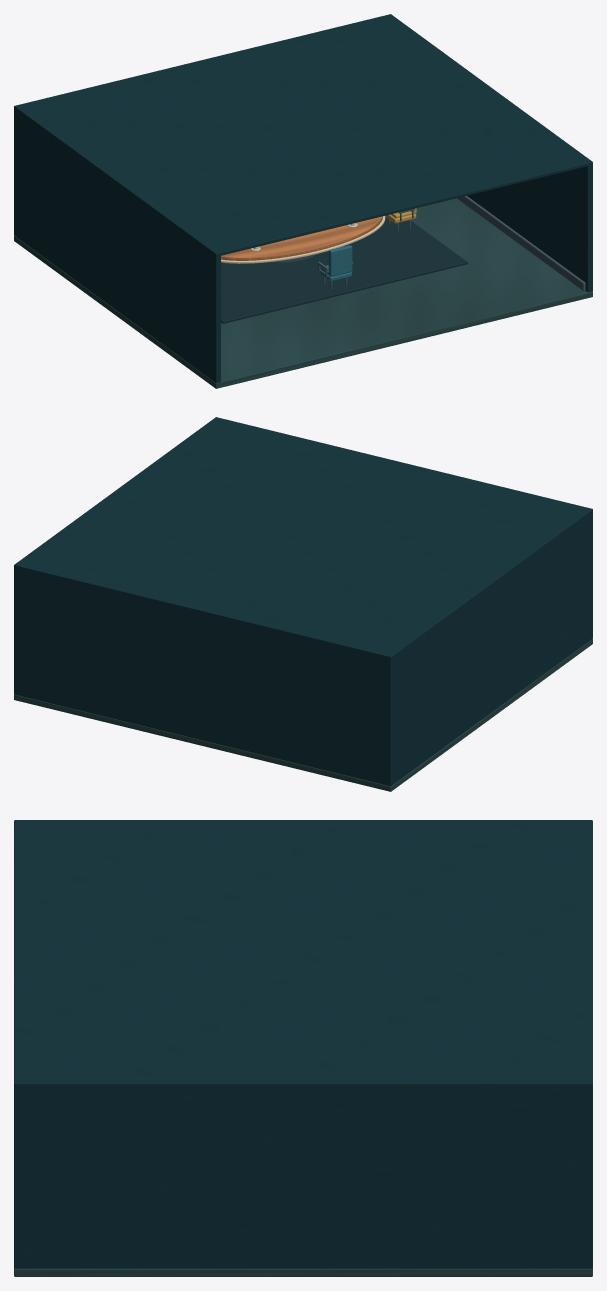
The picture shows the model from 3 angles, top to bottom: view 1: azimuth 30°, elevation 25°; view 2: azimuth 150°, elevation 25°; view 3: azimuth 270°, elevation 25°; orthographic projection. The views are drawn at different scales.
Parts seen in each view (by area): view 1: Meeting_Ceiling, Meeting_LeftWall, Meeting_Floor, Meeting_Rug, Meeting_RightWall, Meeting_TableTop, Meeting_RightBaseboard, Meeting_Chair_Front_Back, Meeting_TableEdge; view 2: Meeting_Ceiling, Meeting_BackWall, Meeting_LeftWall, Meeting_Floor, Meeting_RightWall; view 3: Meeting_Ceiling, Meeting_RightWall, Meeting_Floor, Meeting_BackWall, Meeting_LeftWall.
Boxes of the visible parts, left/top/right/bottom form: Meeting_Ceiling: left=14, top=14, right=592, bottom=255; Meeting_LeftWall: left=14, top=106, right=220, bottom=383; Meeting_Floor: left=14, top=198, right=592, bottom=388; Meeting_Rug: left=221, top=216, right=467, bottom=323; Meeting_RightWall: left=387, top=15, right=592, bottom=292; Meeting_TableTop: left=221, top=216, right=382, bottom=260; Meeting_RightBaseboard: left=457, top=196, right=585, bottom=290; Meeting_Chair_Front_Back: left=328, top=245, right=352, bottom=276; Meeting_TableEdge: left=221, top=216, right=385, bottom=263; Meeting_Ceiling: left=14, top=417, right=592, bottom=658; Meeting_BackWall: left=14, top=563, right=393, bottom=786; Meeting_LeftWall: left=386, top=509, right=592, bottom=785; Meeting_Floor: left=14, top=638, right=592, bottom=791; Meeting_RightWall: left=17, top=417, right=219, bottom=563; Meeting_Ceiling: left=14, top=820, right=592, bottom=1087; Meeting_RightWall: left=14, top=1080, right=592, bottom=1268; Meeting_Floor: left=14, top=1268, right=592, bottom=1276; Meeting_BackWall: left=585, top=820, right=592, bottom=1268; Meeting_LeftWall: left=14, top=820, right=592, bottom=823.
Bounding box in the file's own units: 14 × 4.8 × 13.
17 materials, 10 textured.
